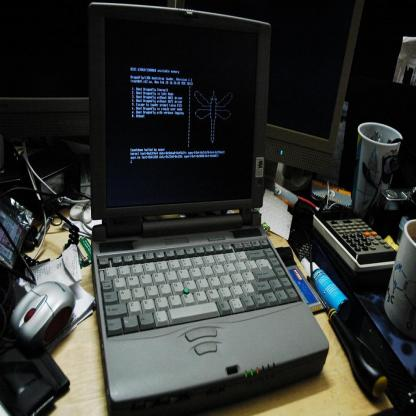board: (86, 0, 328, 415)
